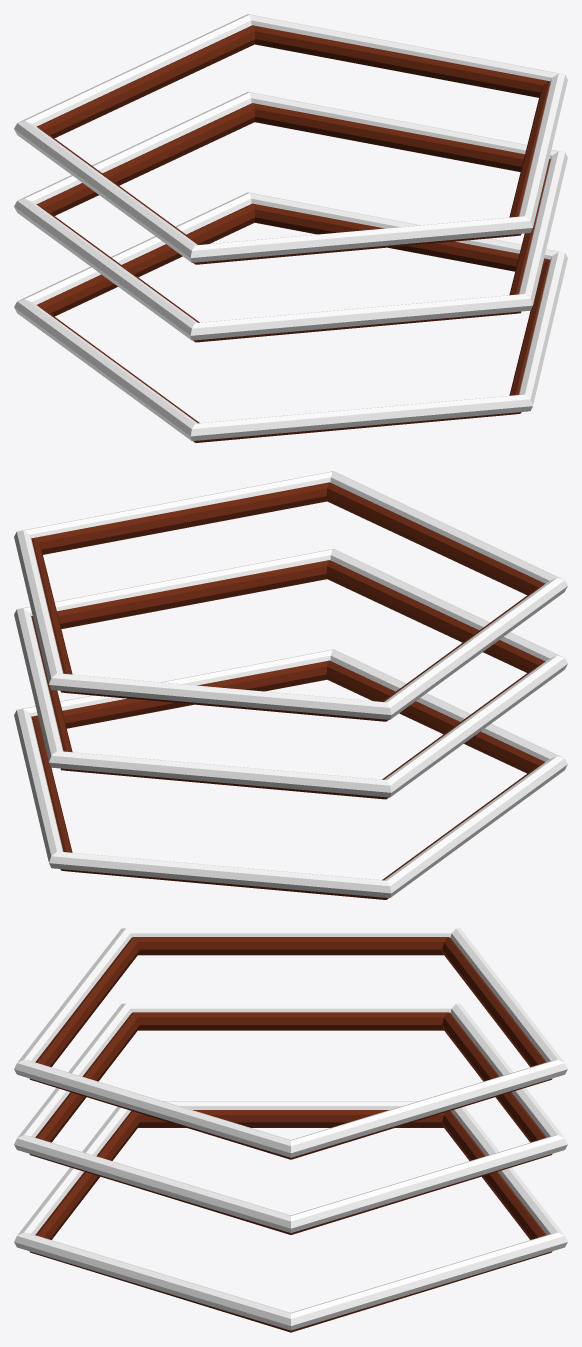
File: ground.fbx
3 renders of one model, top to bottom at view 1: azimuth 30°, elevation 25°; view 2: azimuth 150°, elevation 25°; view 3: azimuth 270°, elevation 25°, orthographic. The views are drawn at different scales.
Visible parts, largest first — view 1: Torus.007, Torus.006, Torus.002, Torus.008, Torus.005, Torus.001; view 2: Torus.007, Torus.006, Torus.002, Torus.008, Torus.005, Torus.001; view 3: Torus.007, Torus.006, Torus.002, Torus.008, Torus.005, Torus.001.
Part boxes in pixels (x1=…): Torus.007: x1=14, y1=14, x2=567, y2=262; Torus.006: x1=14, y1=92, x2=567, y2=340; Torus.002: x1=14, y1=192, x2=567, y2=440; Torus.008: x1=37, y1=25, x2=550, y2=264; Torus.005: x1=36, y1=103, x2=550, y2=342; Torus.001: x1=37, y1=203, x2=550, y2=442; Torus.007: x1=14, y1=471, x2=567, y2=719; Torus.006: x1=14, y1=549, x2=567, y2=797; Torus.002: x1=14, y1=649, x2=567, y2=897; Torus.008: x1=31, y1=482, x2=544, y2=721; Torus.005: x1=31, y1=560, x2=545, y2=799; Torus.001: x1=31, y1=660, x2=544, y2=899; Torus.007: x1=14, y1=928, x2=567, y2=1157; Torus.006: x1=14, y1=1003, x2=567, y2=1232; Torus.002: x1=14, y1=1101, x2=567, y2=1330; Torus.008: x1=29, y1=937, x2=552, y2=1159; Torus.005: x1=29, y1=1012, x2=552, y2=1234; Torus.001: x1=29, y1=1110, x2=552, y2=1332.
Bounding box in the file's own units: 312 × 129 × 332.
